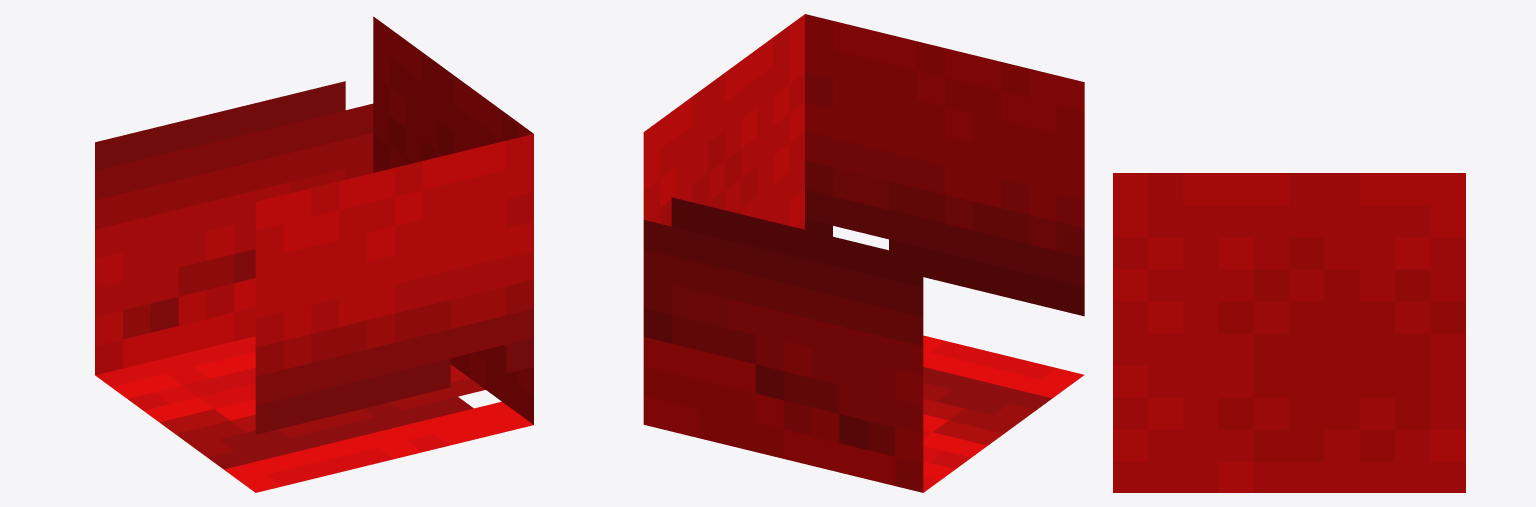
The model's file is VindicatorHelmetHorns.glb.
The picture shows the model from 3 angles, left to right: view 1: azimuth 30°, elevation 25°; view 2: azimuth 150°, elevation 25°; view 3: azimuth 270°, elevation 25°; orthographic projection. The views are drawn at different scales.
Visible parts, largest first — view 1: VindicatorHelmetHorns.001; view 2: VindicatorHelmetHorns.001; view 3: VindicatorHelmetHorns.001.
Part boxes in pixels (x1,y1,x2,y2): VindicatorHelmetHorns.001: (95, 16, 533, 492); VindicatorHelmetHorns.001: (643, 14, 1084, 492); VindicatorHelmetHorns.001: (1113, 173, 1465, 492).
Bounding box in the file's own units: 87.5 × 62.5 × 72.38.
1 material, 1 textured.
